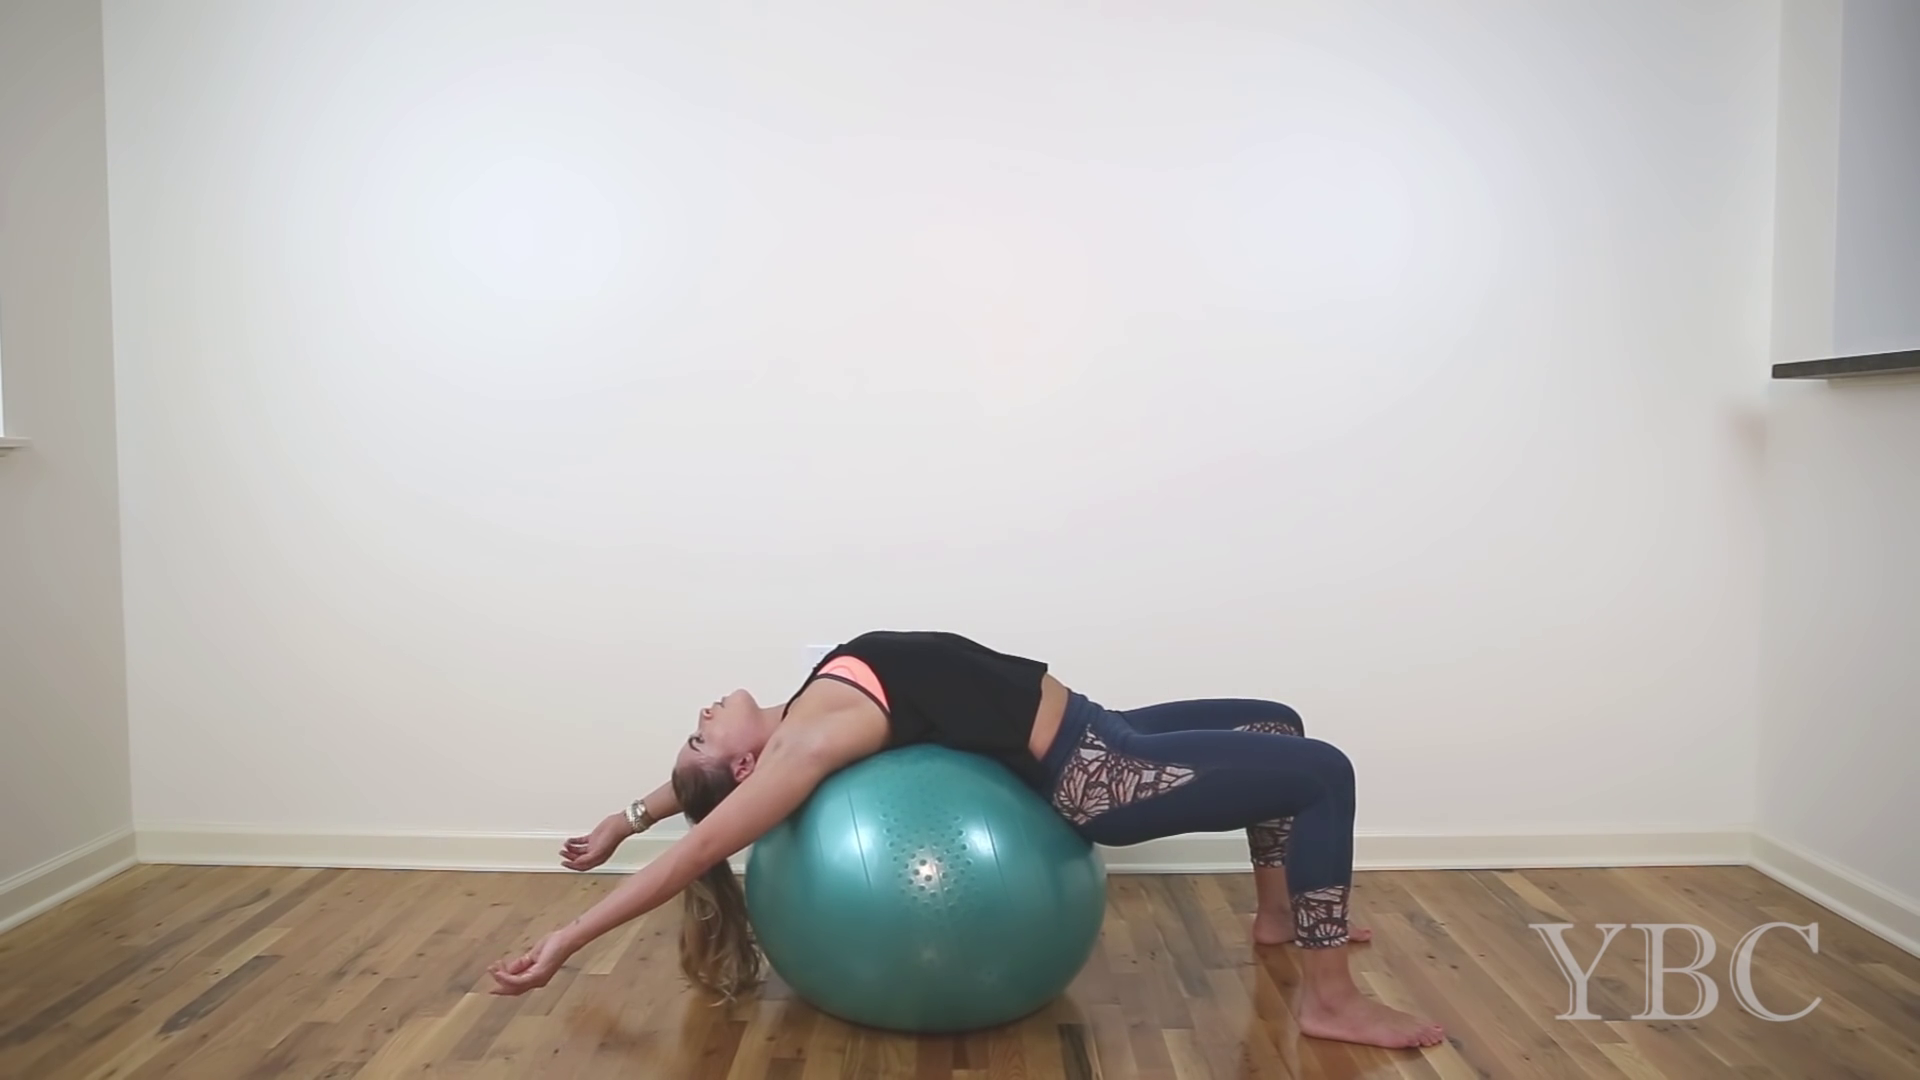yogaball: (735, 735, 1133, 1051)
